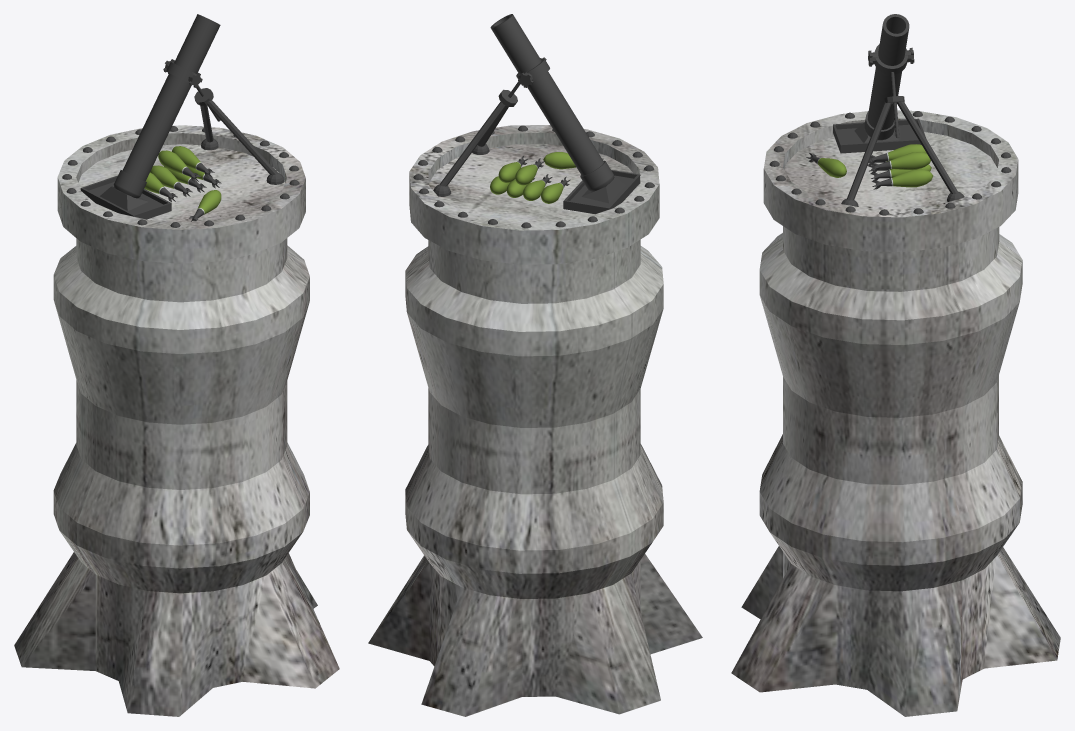
Rendered from Tower_Concrete_Splash.fbx.
3 renders of one model, left to right at view 1: azimuth 30°, elevation 25°; view 2: azimuth 150°, elevation 25°; view 3: azimuth 270°, elevation 25°, orthographic. The views are drawn at different scales.
Visible parts, largest first — view 1: polySurface223, polySurface245, polySurface260; view 2: polySurface223, polySurface245; view 3: polySurface223, polySurface245, polySurface258, polySurface259.
Boxes of the visible parts, left/top/right/bottom form: polySurface223: left=14, top=125, right=339, bottom=716; polySurface245: left=80, top=14, right=284, bottom=219; polySurface260: left=158, top=150, right=200, bottom=181; polySurface223: left=368, top=125, right=702, bottom=716; polySurface245: left=433, top=14, right=640, bottom=214; polySurface223: left=731, top=110, right=1060, bottom=716; polySurface245: left=833, top=14, right=964, bottom=206; polySurface258: left=871, top=169, right=933, bottom=189; polySurface259: left=870, top=152, right=930, bottom=172.
Bounding box in the file's own units: 283 × 590 × 275.
Materials: 1 (1 with a texture image).
